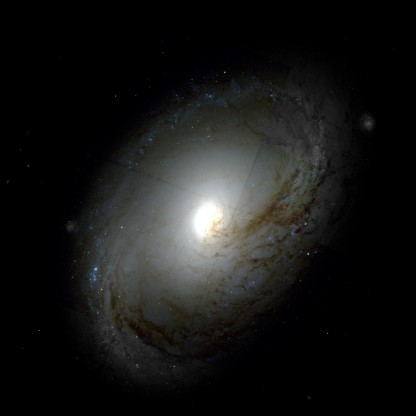Messier 96: (71, 68, 375, 388)
